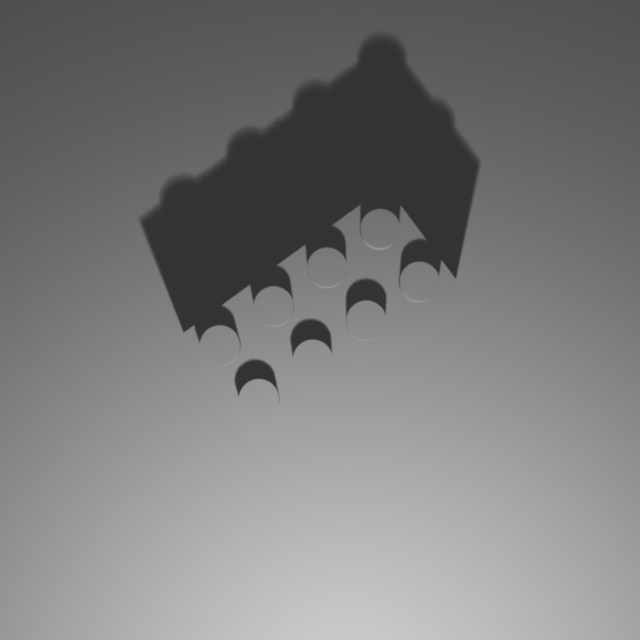lego_2x4: (173, 183, 466, 446)
